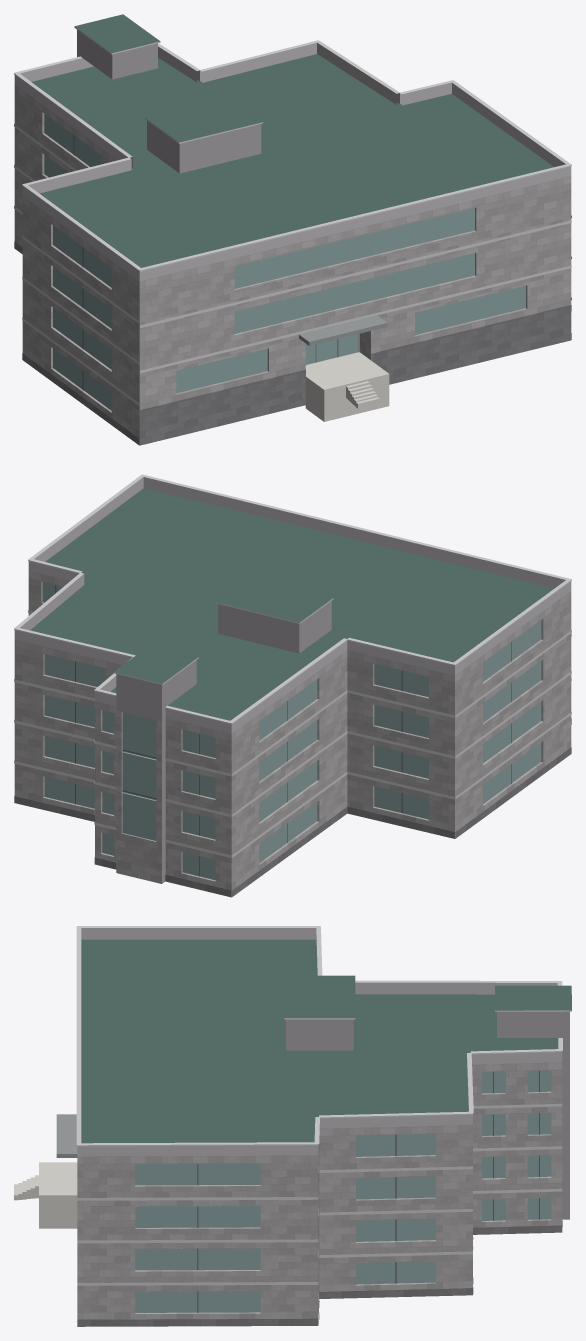
The picture shows the model from 3 angles, top to bottom: view 1: azimuth 30°, elevation 25°; view 2: azimuth 150°, elevation 25°; view 3: azimuth 270°, elevation 25°; orthographic projection. The views are drawn at different scales.
Parts seen in each view (by area): view 1: b312__roof, b312__wall, b312__glass, b312__base, b312__parapet, b312__trim, b312__wall2, b312__entranceStair, b312__canopy; view 2: b312__wall, b312__roof, b312__glass, b312__parapet, b312__trim, b312__wall2, b312__base, b312__frame; view 3: b312__roof, b312__wall, b312__glass, b312__trim, b312__parapet, b312__wall2, b312__base, b312__entranceStair, b312__canopy, b312__frame.
Part boxes in pixels (left/top/right/bottom): b312__roof: left=31, top=14, right=570, bottom=445; b312__wall: left=14, top=84, right=571, bottom=444; b312__glass: left=44, top=114, right=525, bottom=410; b312__base: left=14, top=241, right=571, bottom=445; b312__parapet: left=14, top=43, right=571, bottom=281; b312__trim: left=14, top=26, right=571, bottom=405; b312__wall2: left=77, top=30, right=261, bottom=173; b312__entranceStair: left=305, top=352, right=389, bottom=421; b312__canopy: left=299, top=315, right=387, bottom=345; b312__wall: left=14, top=571, right=571, bottom=896; b312__roof: left=30, top=488, right=554, bottom=720; b312__glass: left=42, top=582, right=541, bottom=880; b312__parapet: left=14, top=477, right=571, bottom=733; b312__trim: left=14, top=474, right=571, bottom=857; b312__wall2: left=116, top=601, right=331, bottom=883; b312__base: left=14, top=718, right=571, bottom=897; b312__frame: left=55, top=585, right=511, bottom=876; b312__roof: left=81, top=939, right=571, bottom=1326; b312__wall: left=77, top=1062, right=562, bottom=1323; b312__glass: left=135, top=1070, right=551, bottom=1312; b312__trim: left=76, top=926, right=571, bottom=1285; b312__parapet: left=77, top=928, right=562, bottom=1156; b312__wall2: left=286, top=1011, right=569, bottom=1219; b312__base: left=77, top=1220, right=562, bottom=1326; b312__entranceStair: left=14, top=1162, right=77, bottom=1228; b312__canopy: left=56, top=1114, right=77, bottom=1157; b312__frame: left=197, top=1070, right=539, bottom=1312.
Bounding box in the file's own units: 39.78 × 18.09 × 42.82.
11 materials, 2 textured.
